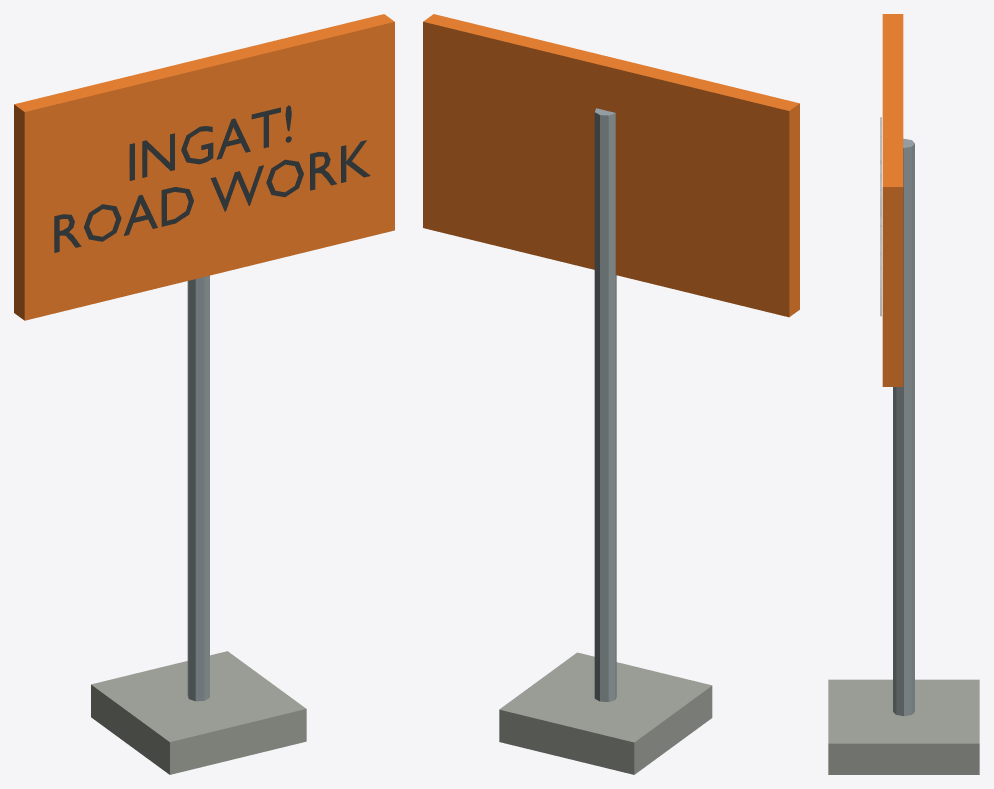
Rendered from TR3_Sign_Warning.glb.
3 views of the same model, side by side, from view 1: azimuth 30°, elevation 25°; view 2: azimuth 150°, elevation 25°; view 3: azimuth 270°, elevation 25° (orthographic). The views are drawn at different scales.
Parts seen in each view (by area): view 1: TR3_Sign_Warning; view 2: TR3_Sign_Warning; view 3: TR3_Sign_Warning.
Boxes of the visible parts, <box> form: TR3_Sign_Warning: <box>14,14,394,774</box>; TR3_Sign_Warning: <box>423,14,799,774</box>; TR3_Sign_Warning: <box>828,14,979,774</box>.
Size of the model in its own units: 1.3 by 2.25 by 0.48.
